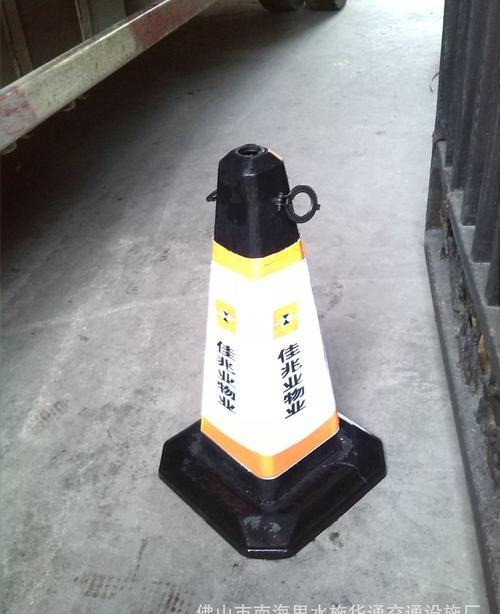cone_barrel: (163, 137, 371, 531)
